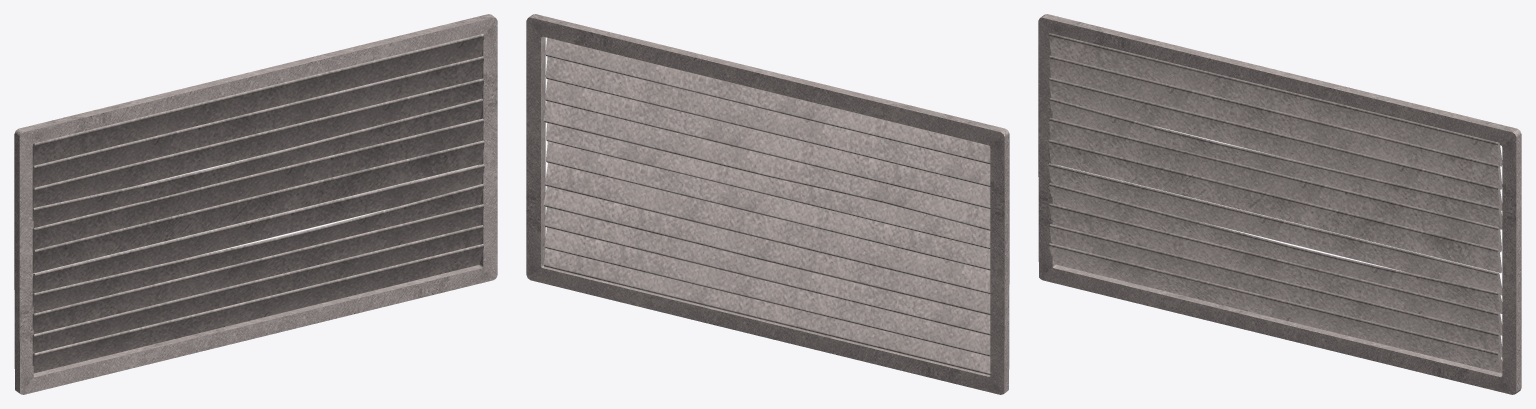
Rendered from SM_Square_Ducting_02a.glb.
3 renders of one model, left to right at view 1: azimuth 30°, elevation 25°; view 2: azimuth 150°, elevation 25°; view 3: azimuth 330°, elevation 25°, orthographic.
Parts seen in each view (by area): view 1: SM_Square_Ducting_02a; view 2: SM_Square_Ducting_02a; view 3: SM_Square_Ducting_02a.
Boxes of the visible parts, x1,y1,x2,y2 form: SM_Square_Ducting_02a: (14, 14, 497, 394); SM_Square_Ducting_02a: (526, 14, 1009, 394); SM_Square_Ducting_02a: (1038, 14, 1521, 394).
Bounding box in the file's own units: 0.7888 × 0.414 × 0.0269.
1 material, 1 textured.
